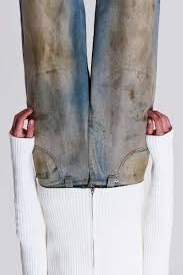earth: (26, 34, 64, 71), (113, 31, 124, 87), (132, 159, 143, 181), (36, 159, 45, 172), (128, 87, 135, 100)
